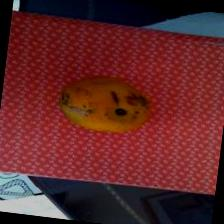Orange Rotten: (54, 69, 167, 145)
